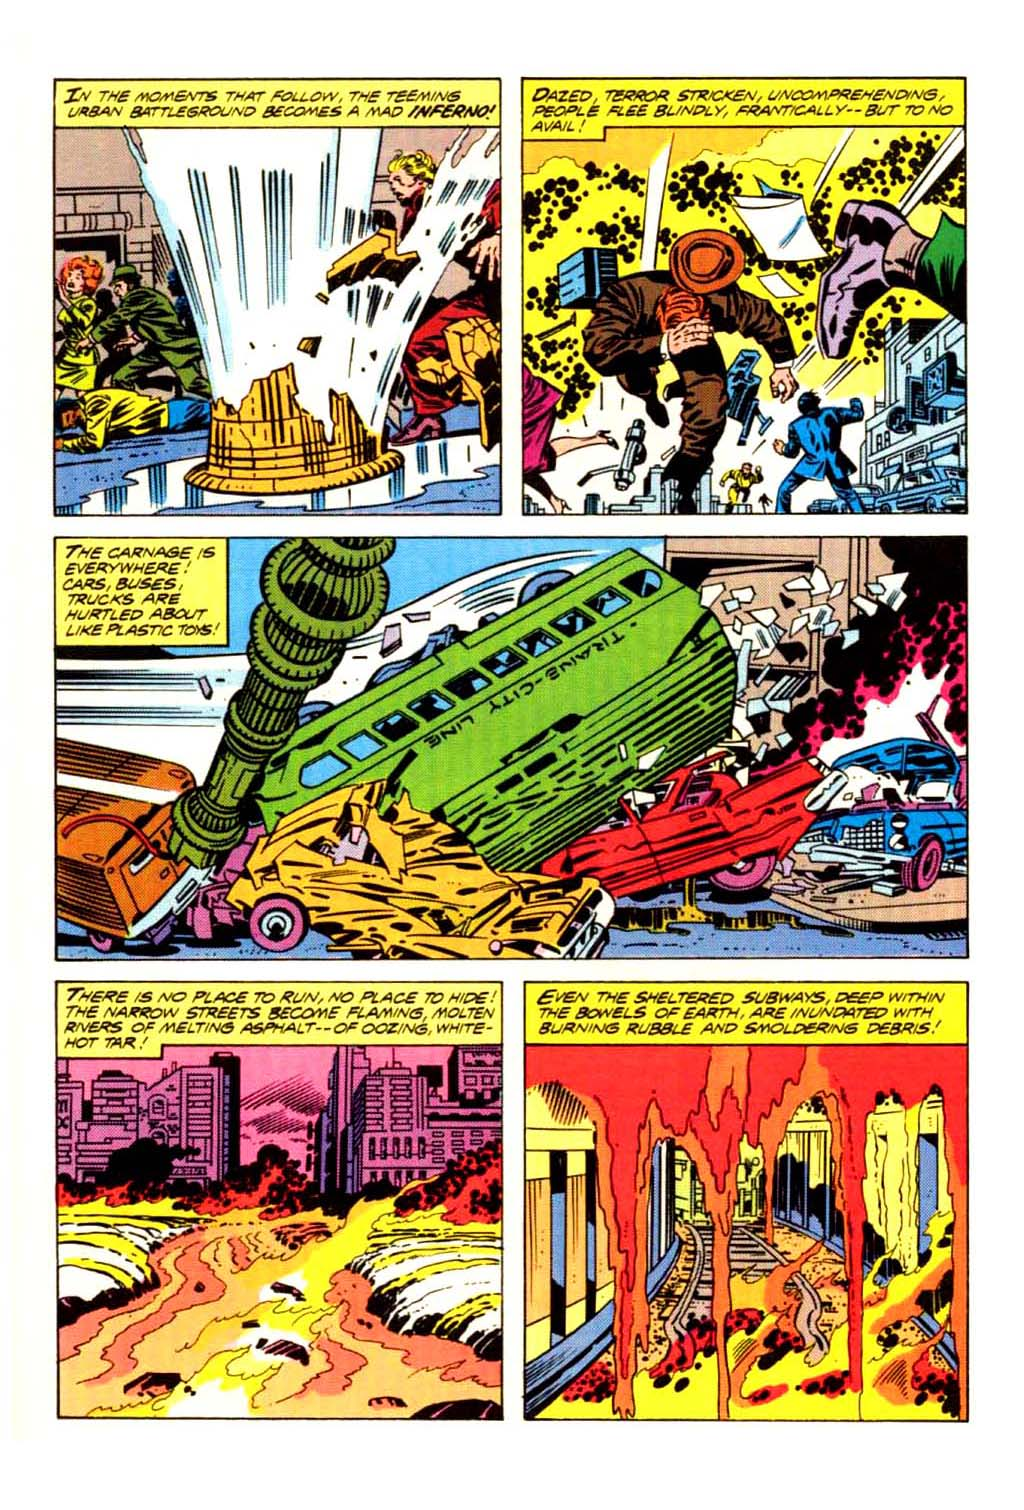Baloon: (57, 980, 507, 1058), (525, 980, 969, 1041), (525, 83, 971, 143), (53, 85, 504, 125), (57, 543, 227, 645)
Vignetta: (57, 538, 969, 959), (55, 980, 507, 1422), (50, 80, 499, 518), (525, 976, 965, 1420), (525, 83, 969, 513)
